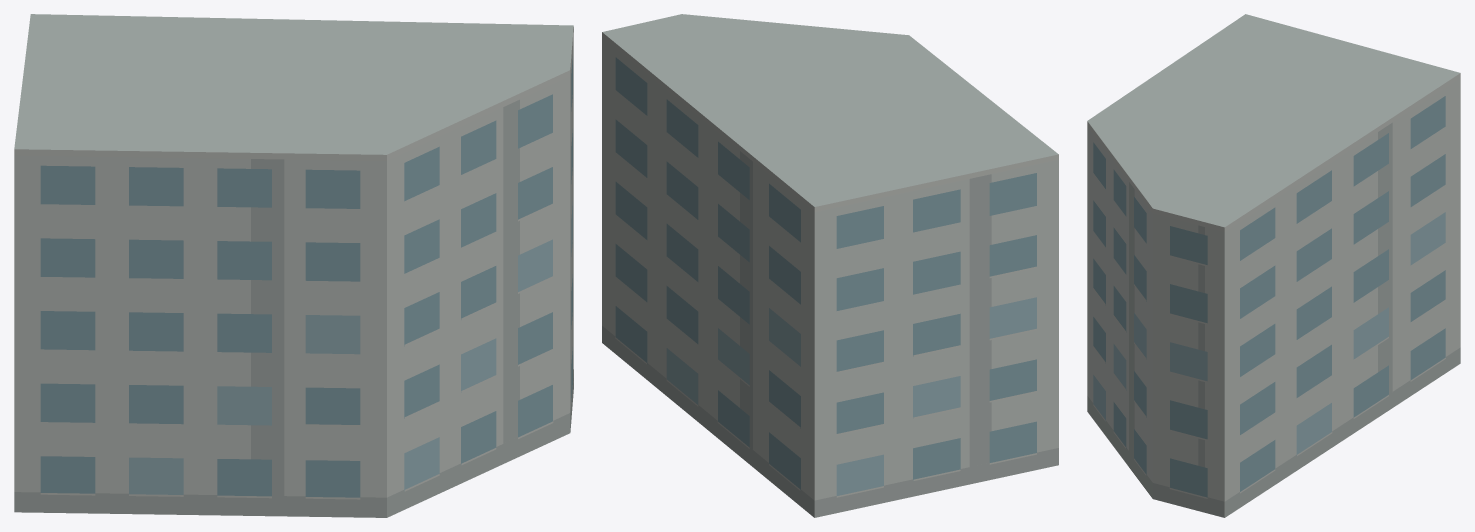
Rendered from survey-upis-32787919.glb.
3 renders of one model, left to right at view 1: azimuth 30°, elevation 25°; view 2: azimuth 150°, elevation 25°; view 3: azimuth 270°, elevation 25°, orthographic. The views are drawn at different scales.
Parts seen in each view (by area): view 1: survey-upis-32787919.tmp; view 2: survey-upis-32787919.tmp; view 3: survey-upis-32787919.tmp.
Part boxes in pixels (box(x1,y1,x2,y2)): survey-upis-32787919.tmp: box(14, 14, 573, 517); survey-upis-32787919.tmp: box(602, 14, 1058, 517); survey-upis-32787919.tmp: box(1087, 14, 1460, 517).
Bounding box in the file's own units: 22.69 × 14.4 × 16.79.
